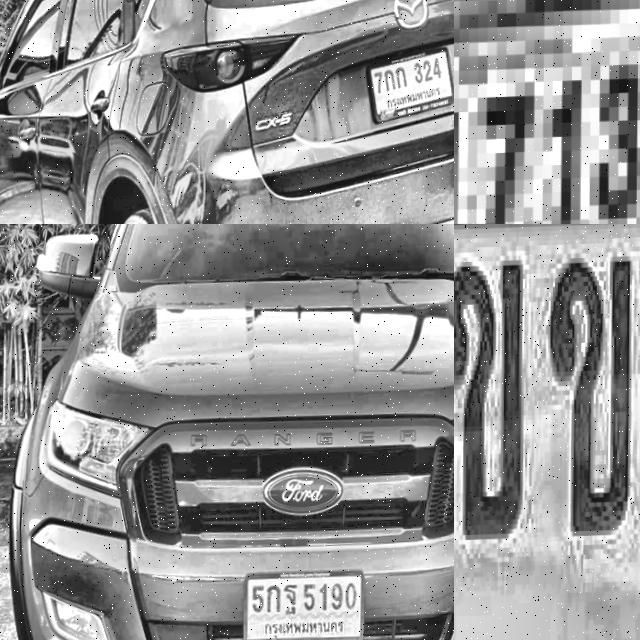license-plate: (454, 224, 640, 640), (454, 0, 640, 224), (241, 567, 367, 640), (363, 44, 454, 133)
